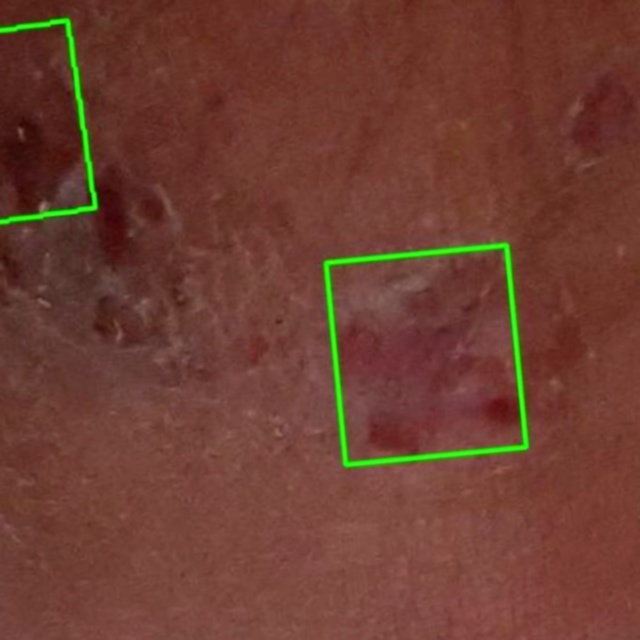Contact Dermatitis: (326, 245, 526, 464), (0, 20, 94, 221)
